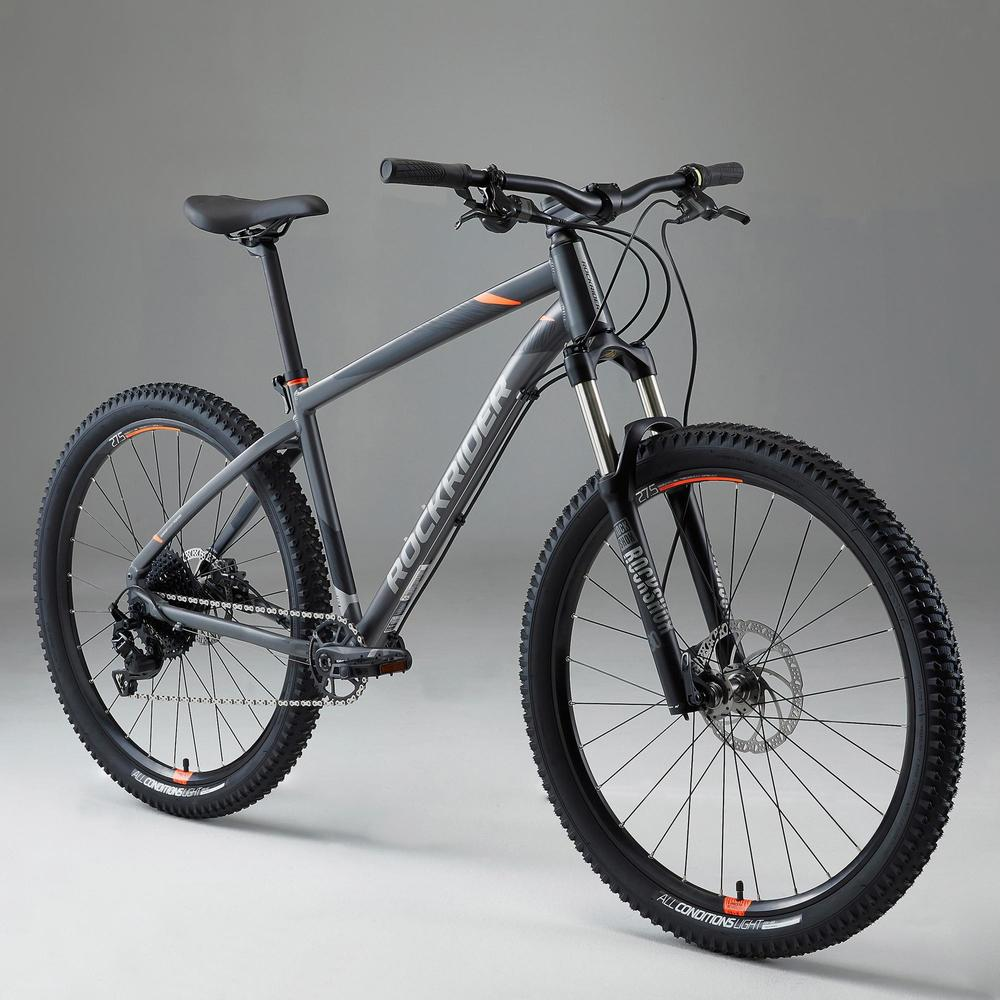MountainBike: (45, 154, 958, 938)
